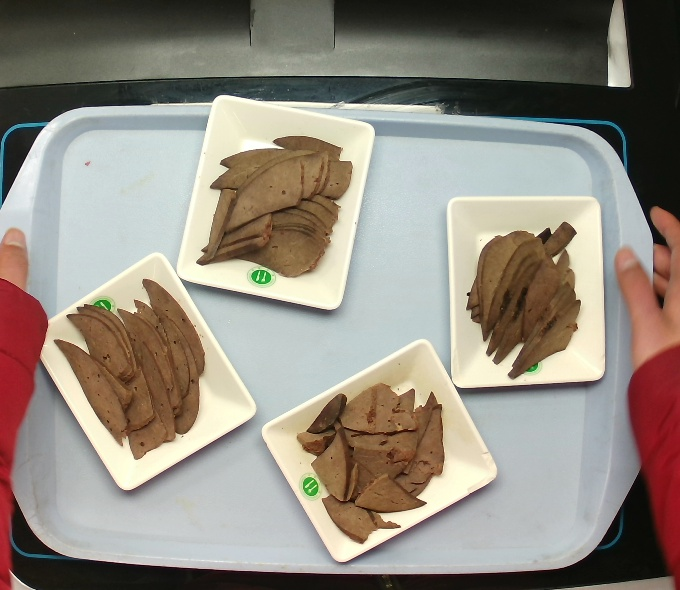wcq-ZhuGan: (51, 272, 211, 464), (292, 375, 455, 549), (192, 130, 356, 282), (462, 218, 586, 382)
